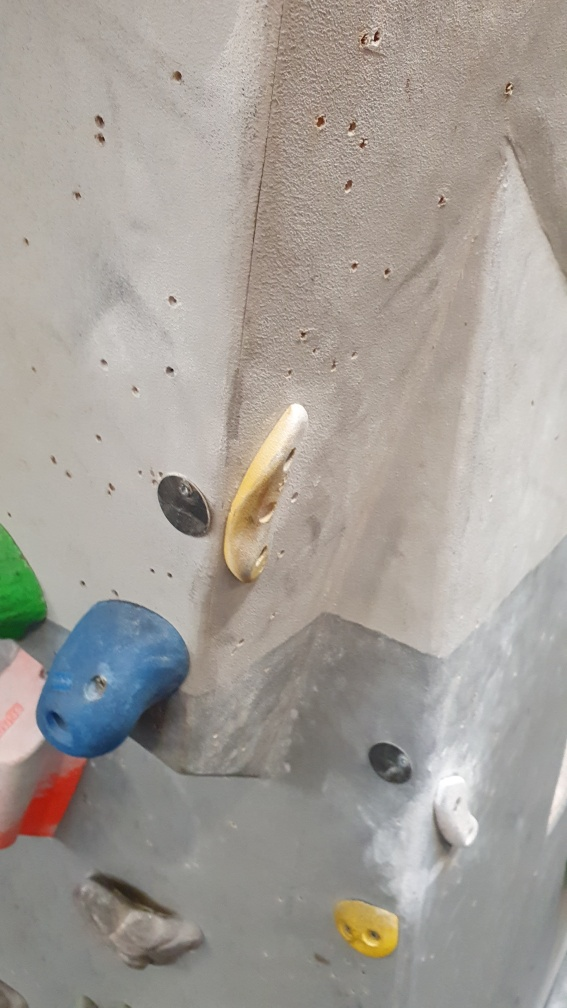Crimp: (221, 408, 311, 587), (433, 787, 484, 853)
Hand Start: (155, 472, 215, 541), (366, 740, 416, 785)
Jug: (74, 863, 208, 976)
Pinch: (1, 648, 86, 853)
Sloper: (39, 596, 195, 762)
